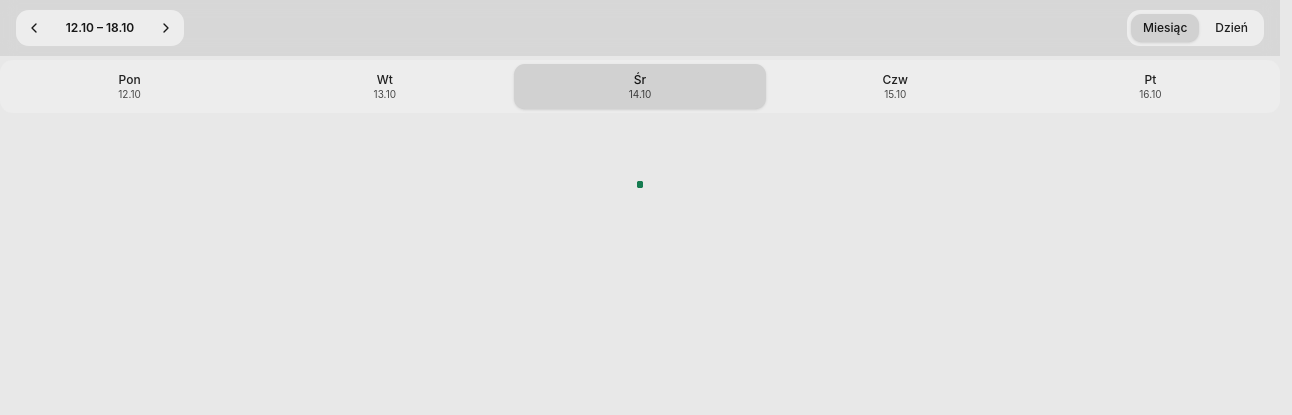
it: TimetableScreen › keeps the week bar and day tabs mounted while the next week loads
Click the tab with aria-label "Poniedziałek 12.10" at (130, 87), box [4,64,255,109]
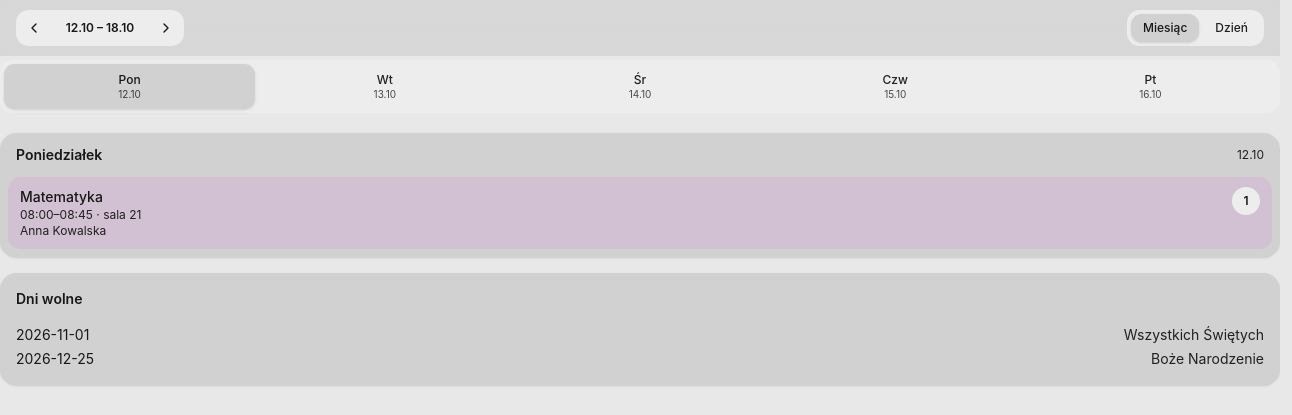
Now the text "Matematyka" is shown, box [20,188,103,205]
Click the button named "Następny tydzień" at (166, 28), box [152,14,180,42]
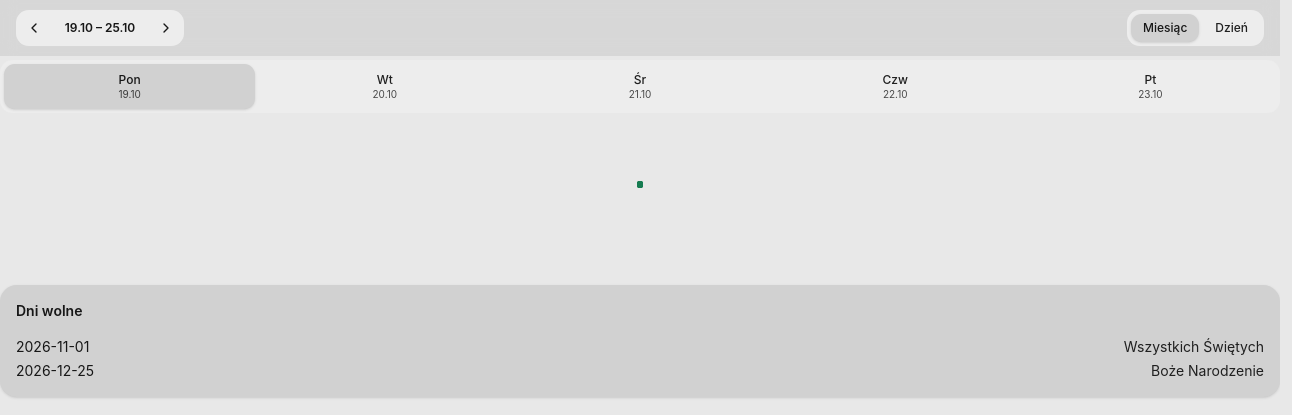
Now the tab with aria-label "Poniedziałek 19.10" is shown, box [4,64,255,109]
Now the button "Matematyka" is gone
Now the text "19.10 – 25.10" is shown, box [65,20,135,35]
